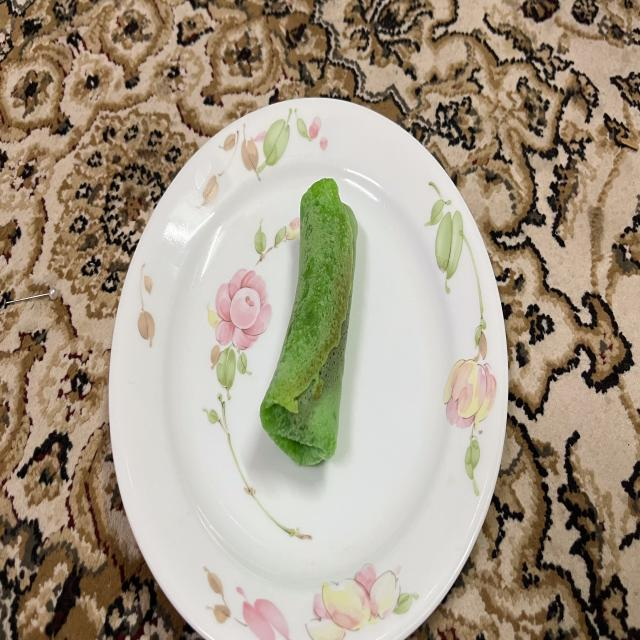Kuih-Ketayap: (260, 178, 358, 464)
